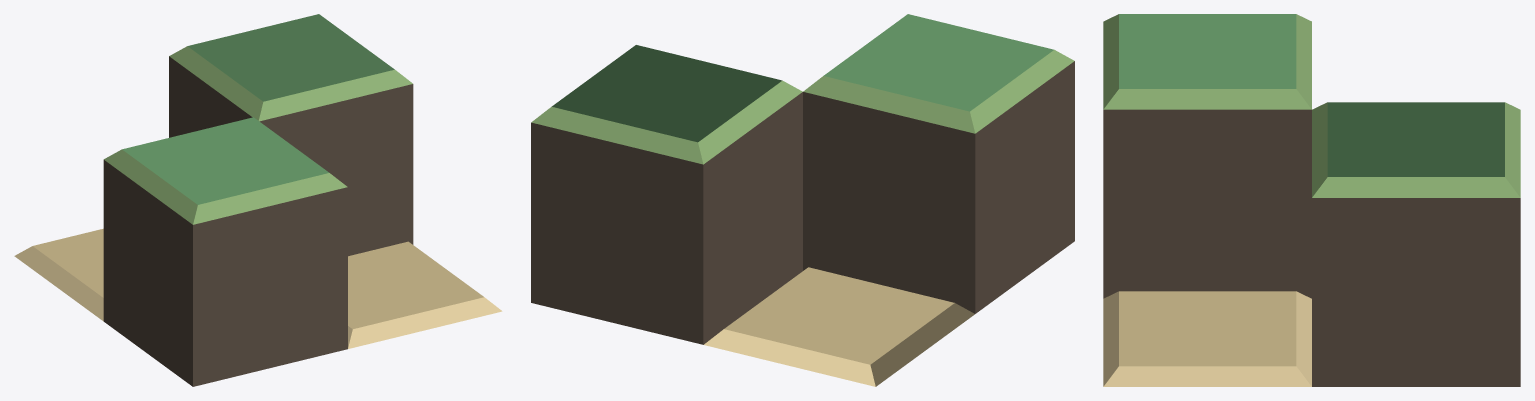
File: Cliff_Double_Corner_Tile.002.obj
The picture shows the model from 3 angles, left to right: view 1: azimuth 30°, elevation 25°; view 2: azimuth 150°, elevation 25°; view 3: azimuth 270°, elevation 25°; orthographic projection. The views are drawn at different scales.
Parts seen in each view (by area): view 1: Cliff_Double_Corner_Tile.002; view 2: Cliff_Double_Corner_Tile.002; view 3: Cliff_Double_Corner_Tile.002.
Part boxes in pixels (bbox=[...]): Cliff_Double_Corner_Tile.002: bbox=[14, 14, 502, 386]; Cliff_Double_Corner_Tile.002: bbox=[531, 14, 1074, 386]; Cliff_Double_Corner_Tile.002: bbox=[1103, 14, 1520, 386].
Size of the model in its own units: 2 by 1.08 by 2.
